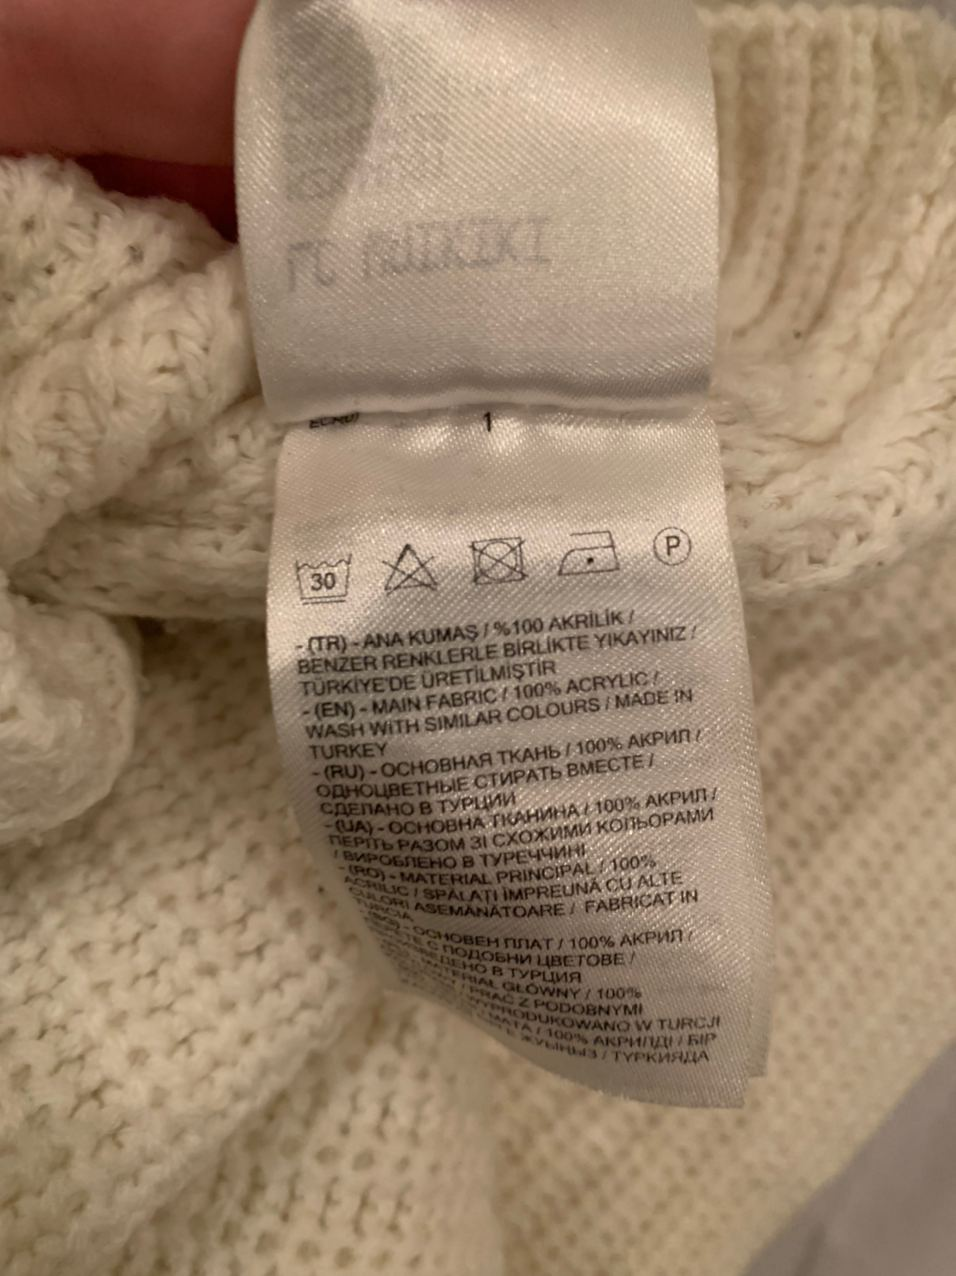do_not_bleach: (373, 539, 446, 596)
do_not_tumble_drying: (465, 530, 535, 589)
dry_clean_tetrachloroethylene_pce_only: (649, 521, 696, 569)
ironing_at_low_temp: (553, 523, 626, 584)
wash_at_or_below_30_mild_fine_wash: (291, 549, 355, 611)
